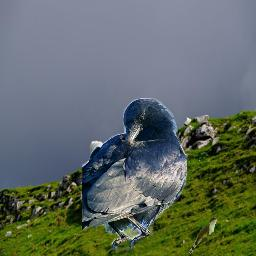Crow: (82, 98, 187, 251)
Cuckoo: (189, 217, 219, 254)
